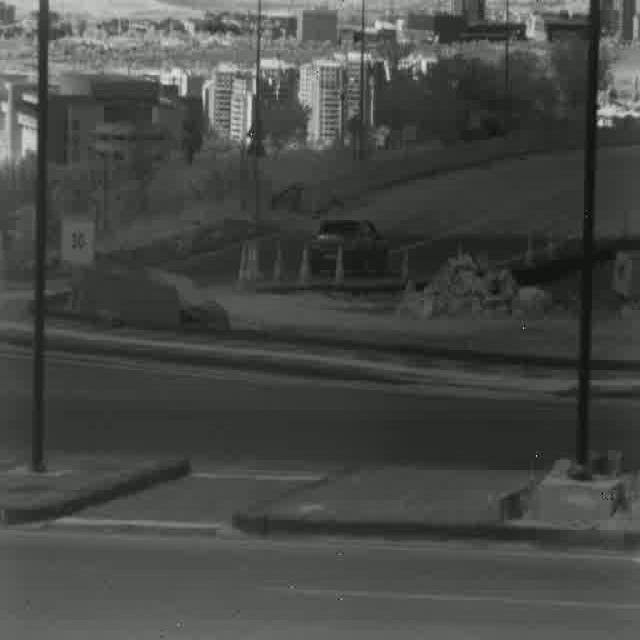Car: (310, 218, 392, 277)
